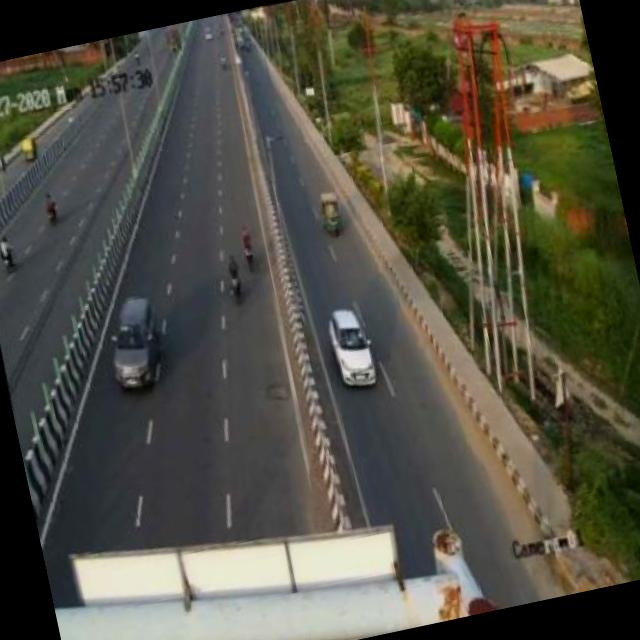car: (94, 287, 175, 398), (322, 302, 380, 392)
